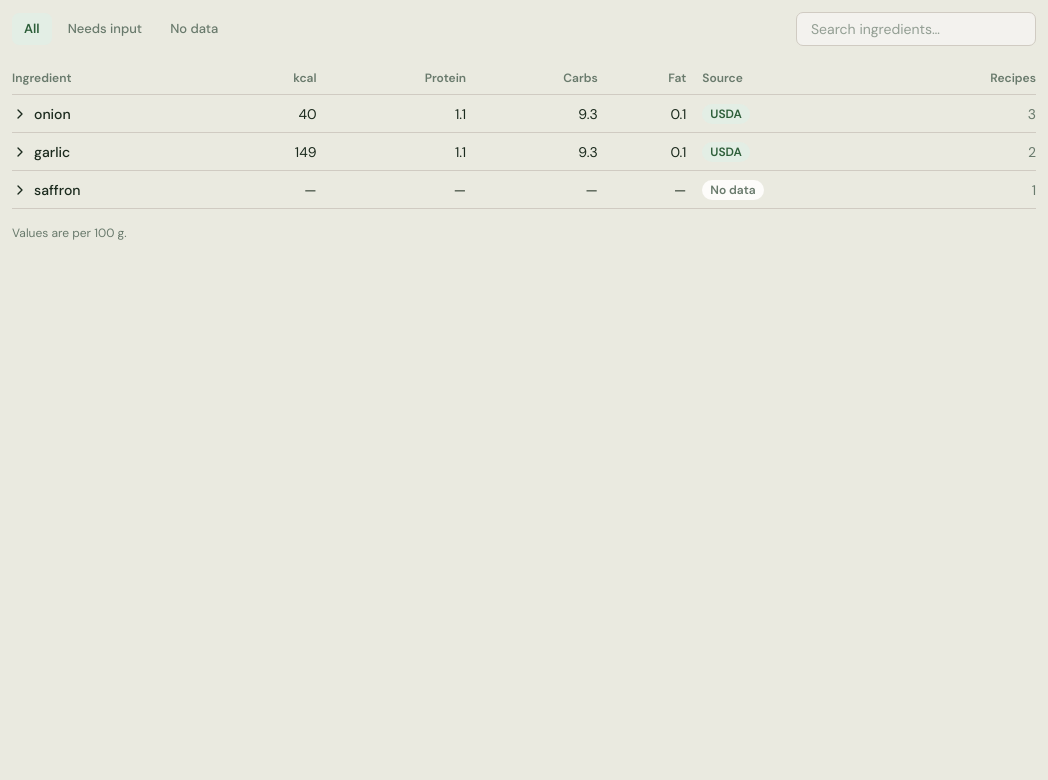
IngredientNutritionTable › saves manual values and shows them in the row
Click the button "onion" at (41, 114), box x1=12 y1=104 x2=71 y2=124
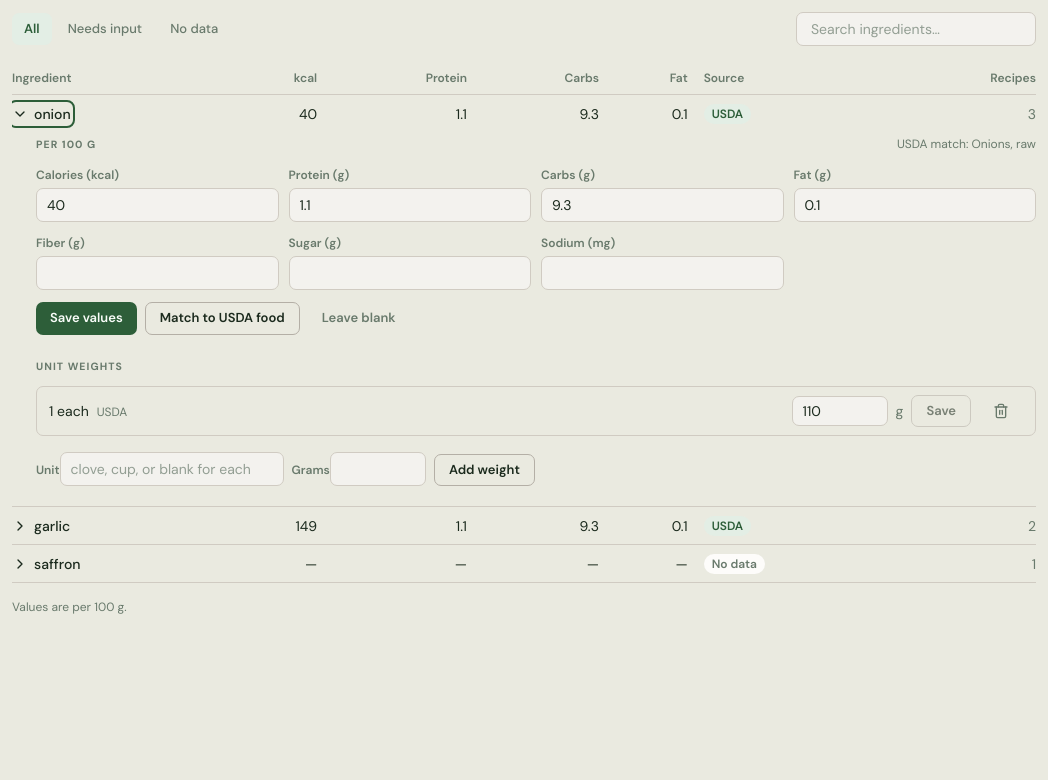
Replace the text in the number field labelled "Calories (kcal)" with "50" at (157, 205), box x1=36 y1=188 x2=278 y2=222
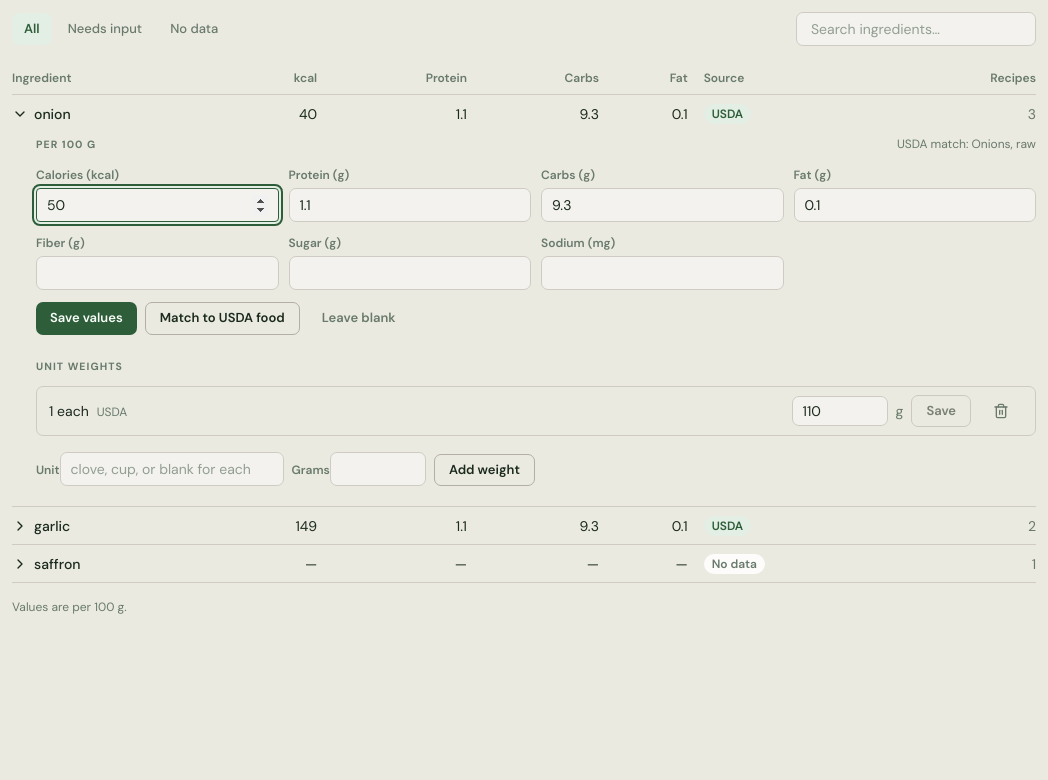
Click the button "Save values" at (86, 318), box x1=36 y1=302 x2=137 y2=335
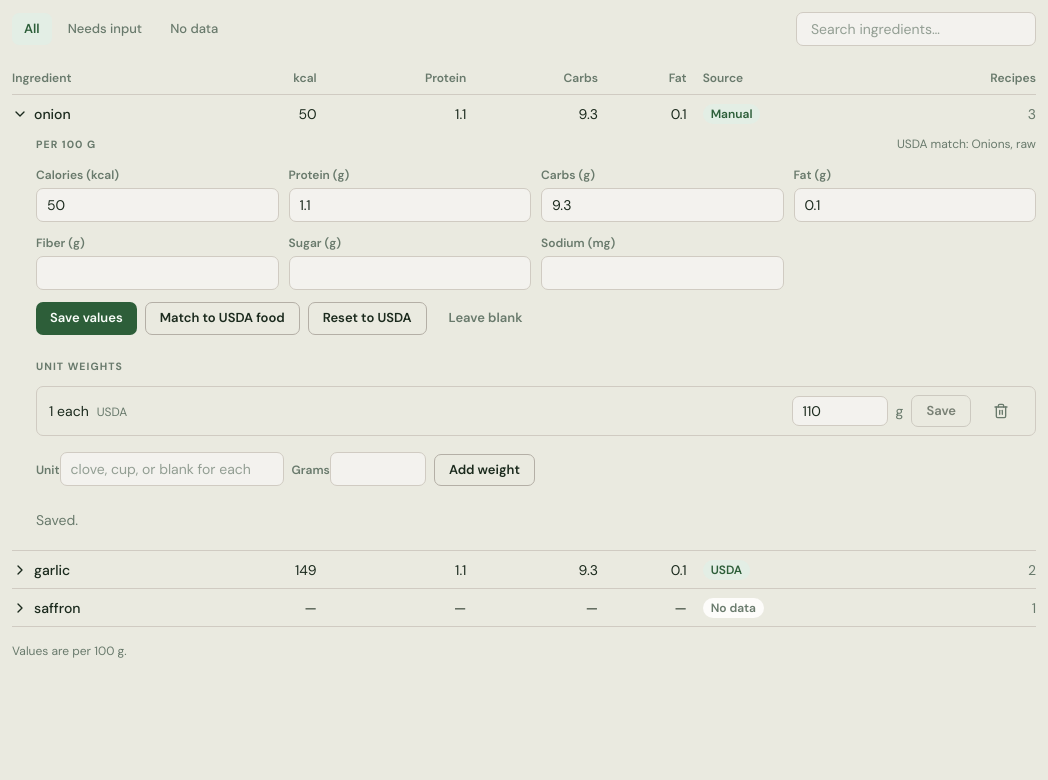
Check: the text "Manual" is shown, box x1=703 y1=104 x2=760 y2=124
Check: the text "50" is shown, box x1=222 y1=94 x2=325 y2=132
Check: the button "Reset to USDA" is shown, box x1=308 y1=302 x2=426 y2=335
